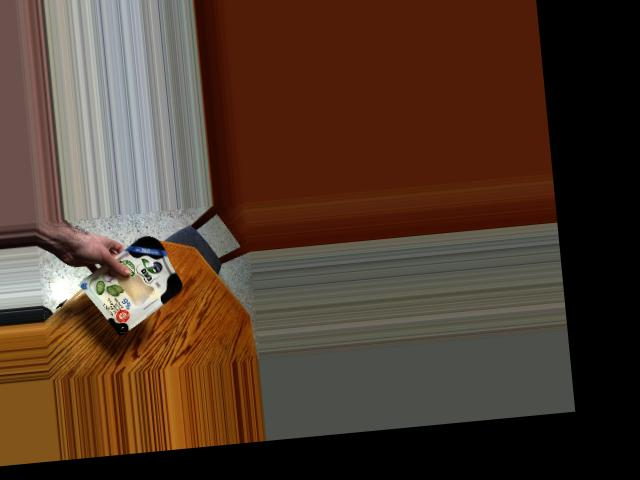cheese: (89, 232, 192, 329)
